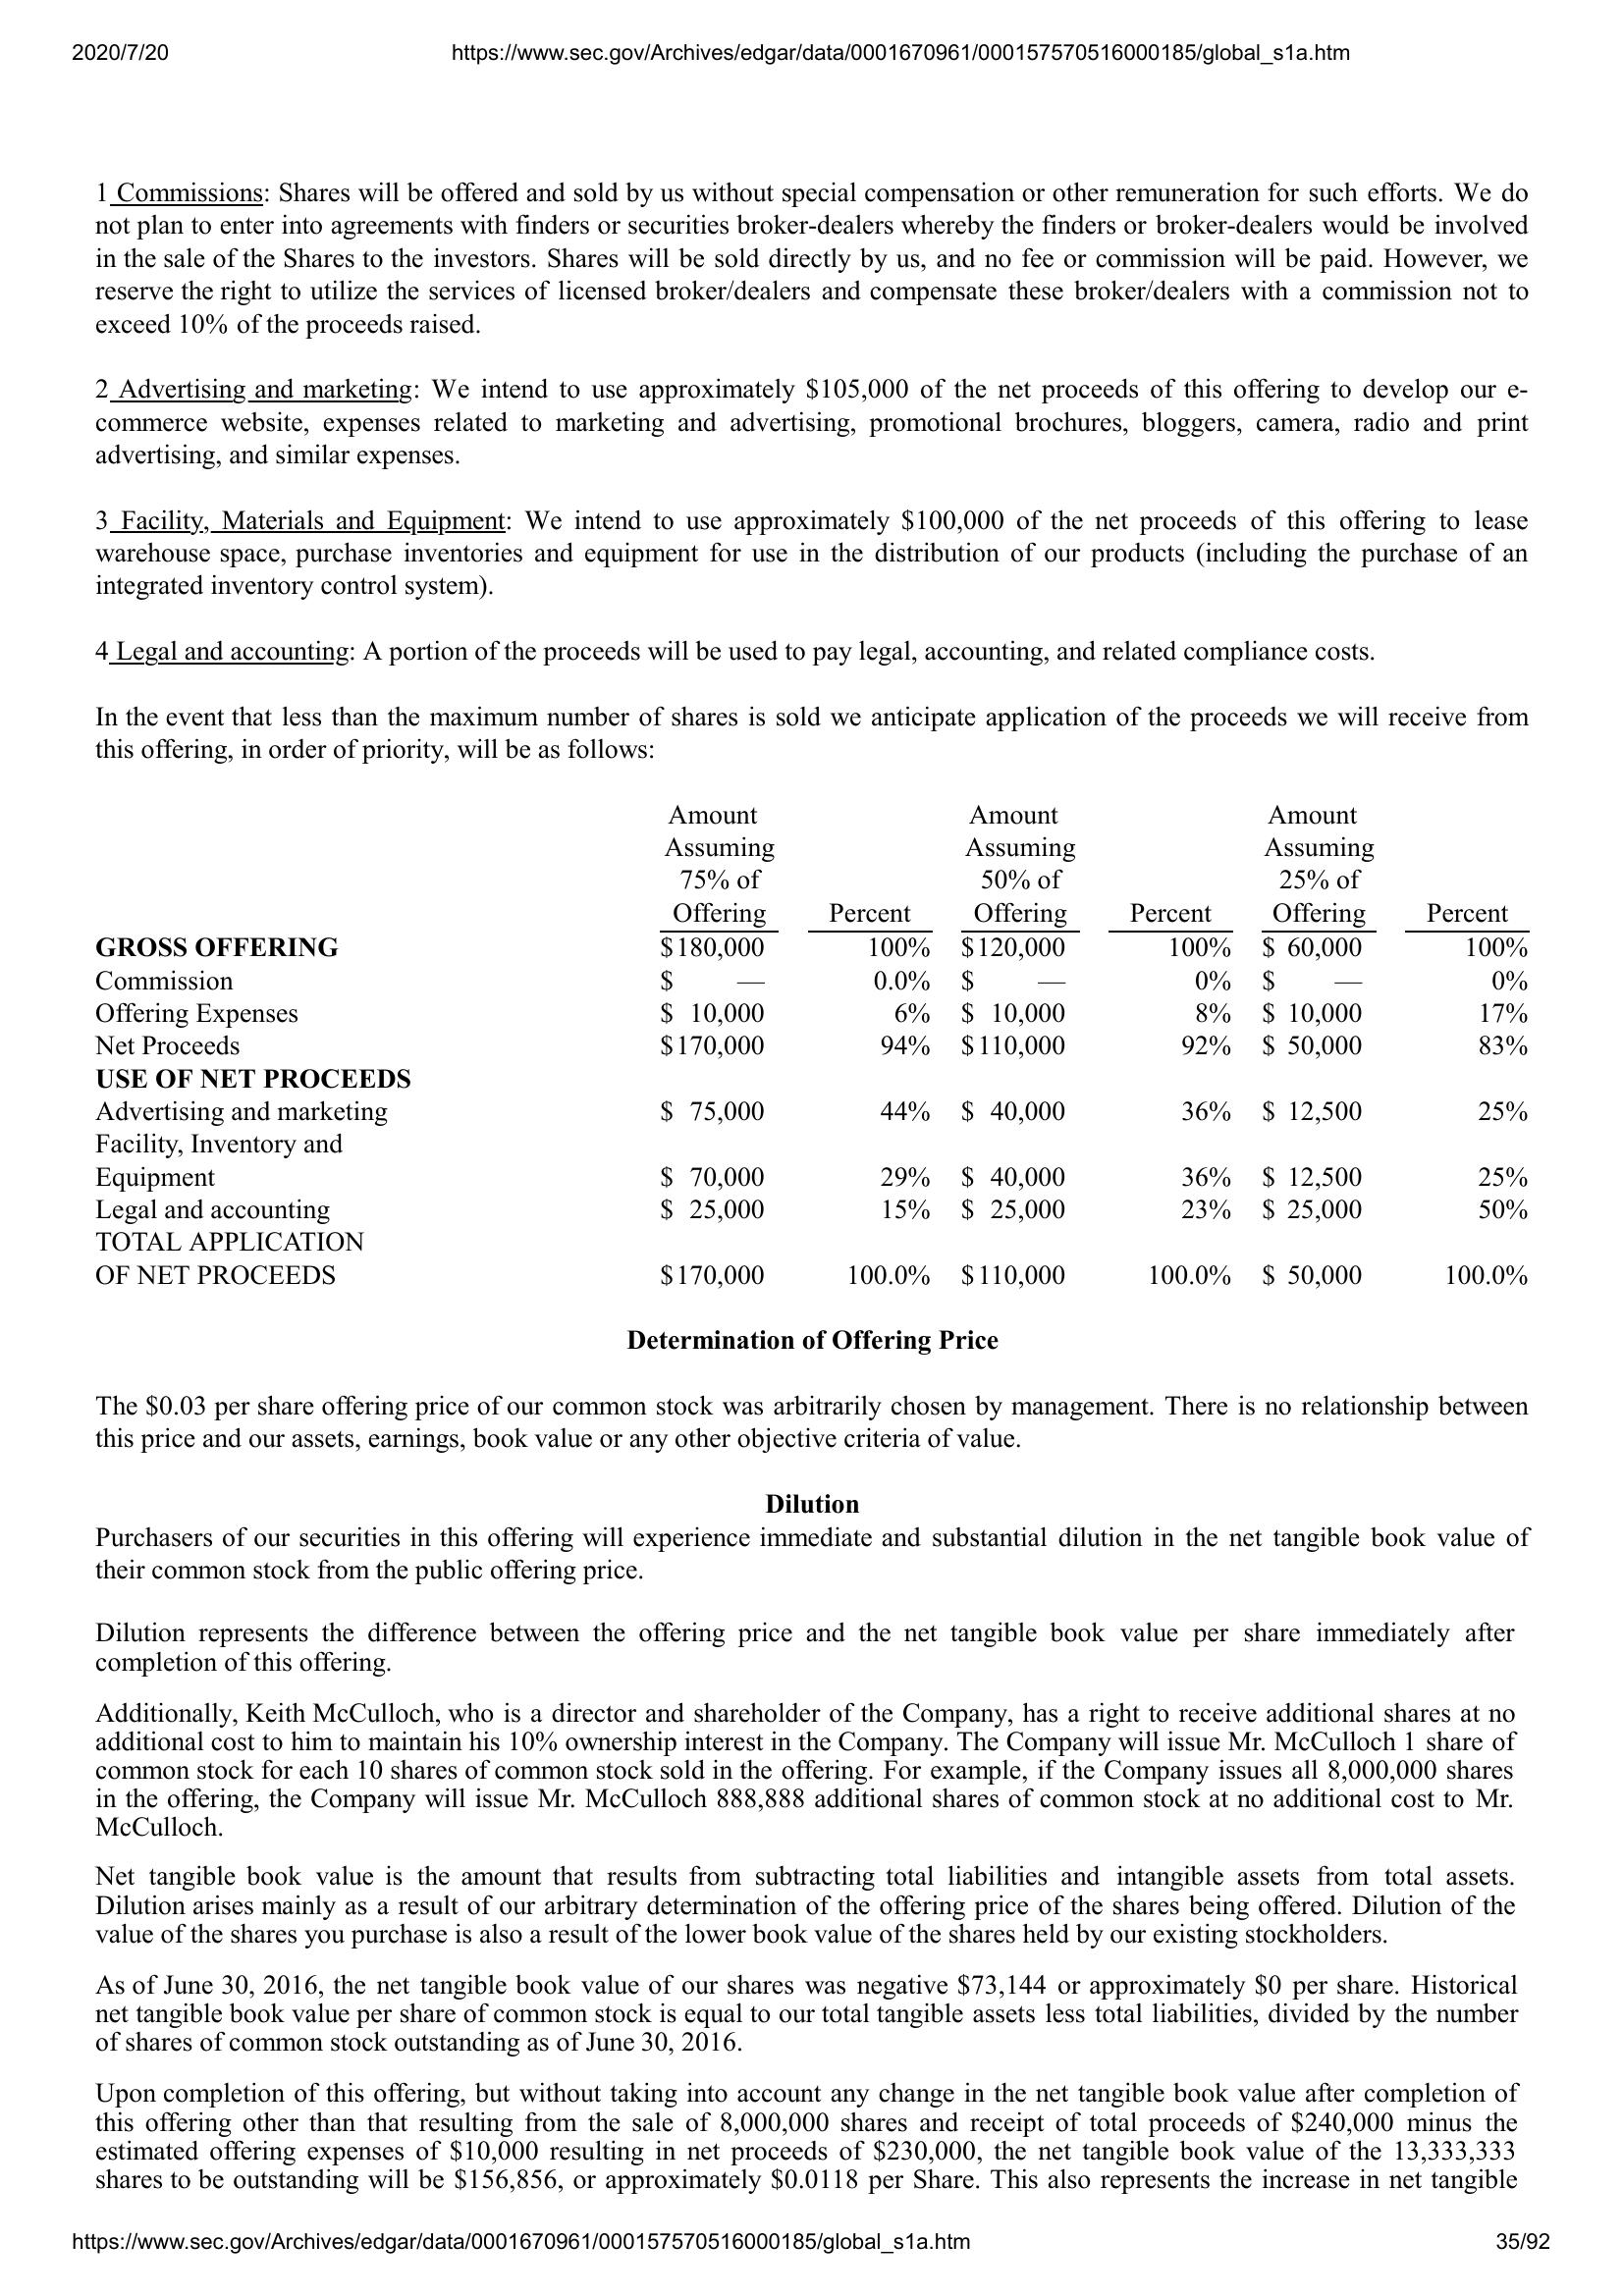table: (81, 797, 1540, 1311)
